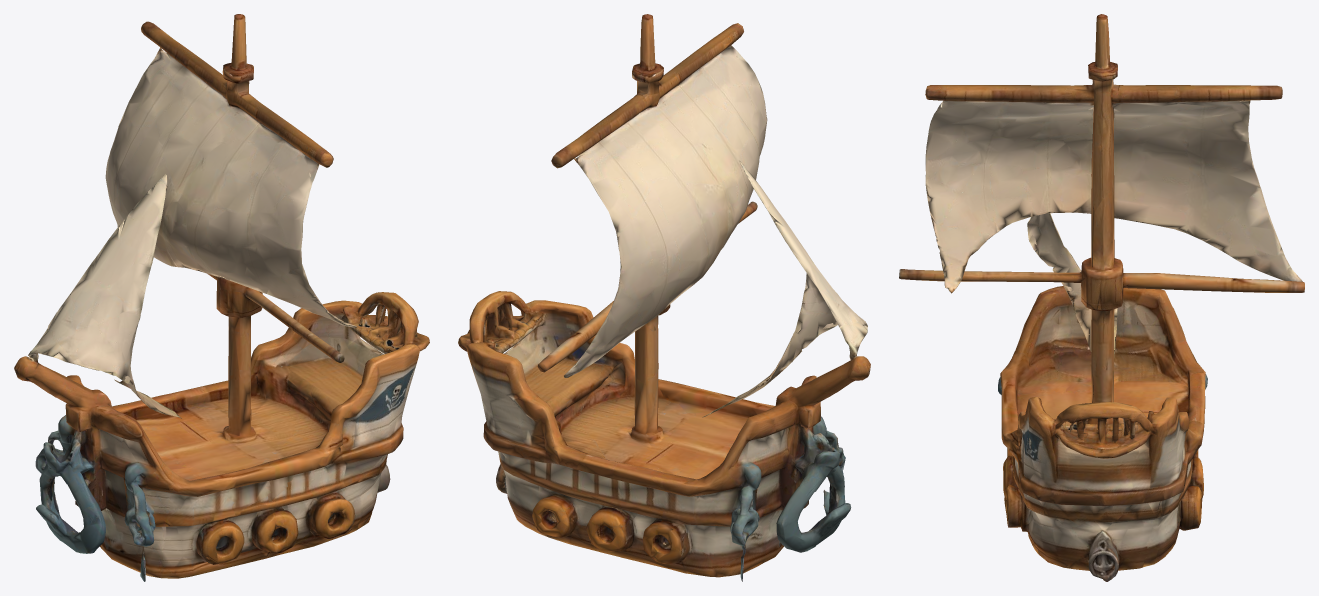
The model's file is toyBoat.glb.
3 views of the same model, side by side, from view 1: azimuth 30°, elevation 25°; view 2: azimuth 150°, elevation 25°; view 3: azimuth 270°, elevation 25° (orthographic). The views are drawn at different scales.
Bounding box in the file's own units: 0.8259 × 1 × 0.734.
Materials: 1 (1 with a texture image).
